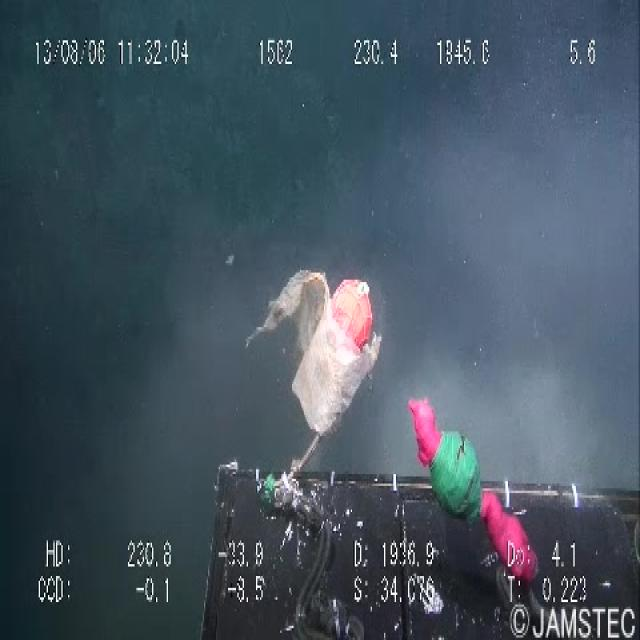plastic: (237, 249, 395, 441)
